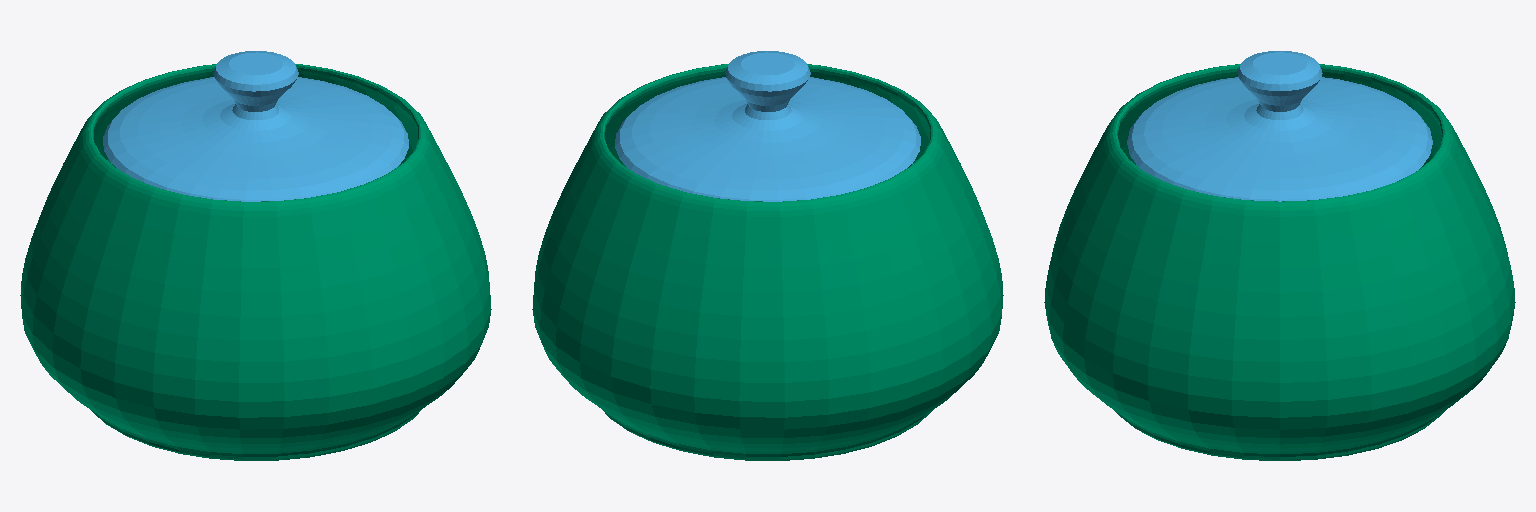
robot.urdf — partnet_13961f08fe5b4c549ef60e9225cbea3a:
<?xml version="1.0" ?>
<robot name="partnet_13961f08fe5b4c549ef60e9225cbea3a">
	<link name="base"/>
	<link name="link_0">
		<visual name="lid-1">
			<origin xyz="0 0 0"/>
			<geometry>
				<mesh filename="textured_objs/original-4.obj" scale="0.2 0.2 0.2"/>
			</geometry>
		</visual>
		<collision>
			<origin xyz="0 0 0"/>
			<geometry>
				<mesh filename="textured_objs/original-4.obj" scale="0.2 0.2 0.2"/>
			</geometry>
		</collision>
	</link>
	<joint name="joint_0" type="prismatic">
		<origin xyz="0 0 0"/>
		<axis xyz="0 1 0"/>
		<child link="link_0"/>
		<parent link="link_1"/>
		<limit lower="0" upper="0.03200000000000003"/>
	</joint>
	<link name="link_1">
		<visual name="handle-2">
			<origin xyz="0 0 0"/>
			<geometry>
				<mesh filename="textured_objs/original-2.obj" scale="0.2 0.2 0.2"/>
			</geometry>
		</visual>
		<visual name="base_body-3">
			<origin xyz="0 0 0"/>
			<geometry>
				<mesh filename="textured_objs/original-3.obj" scale="0.2 0.2 0.2"/>
			</geometry>
		</visual>
		<visual name="base_body-3">
			<origin xyz="0 0 0"/>
			<geometry>
				<mesh filename="textured_objs/original-1.obj" scale="0.2 0.2 0.2"/>
			</geometry>
		</visual>
		<collision>
			<origin xyz="0 0 0"/>
			<geometry>
				<mesh filename="textured_objs/original-2.obj" scale="0.2 0.2 0.2"/>
			</geometry>
		</collision>
		<collision>
			<origin xyz="0 0 0"/>
			<geometry>
				<mesh filename="textured_objs/original-3.obj" scale="0.2 0.2 0.2"/>
			</geometry>
		</collision>
		<collision>
			<origin xyz="0 0 0"/>
			<geometry>
				<mesh filename="textured_objs/original-1.obj" scale="0.2 0.2 0.2"/>
			</geometry>
		</collision>
	</link>
	<joint name="joint_1" type="fixed">
		<origin rpy="1.570796326794897 0 -1.570796326794897" xyz="0 0 0"/>
		<child link="link_1"/>
		<parent link="base"/>
	</joint>
</robot>

--- What the picture shows (computed from the rendered views, not written in the file) ---
3 views of the same robot in one strip: view 1: azimuth 30°, elevation 25°; view 2: azimuth 150°, elevation 25°; view 3: azimuth 270°, elevation 25° (orthographic).
Model partnet_13961f08fe5b4c549ef60e9225cbea3a with 3 links and 2 joints (1 prismatic, 1 fixed), rooted at base, posed every joint at zero.
Visible links, largest first — view 1: link_1, link_0; view 2: link_1, link_0; view 3: link_1, link_0.
Boxes of the visible links, box(x1,y1,x2,y2) form: link_1: box(20, 64, 491, 460); link_0: box(103, 51, 408, 201); link_1: box(532, 64, 1003, 460); link_0: box(615, 51, 920, 201); link_1: box(1044, 64, 1515, 460); link_0: box(1127, 51, 1432, 201).
Bounding box of the posed robot: 0.2284 × 0.2284 × 0.1789 m (x, y, z).
Meshes: 4 distinct files referenced, 2 mesh visuals loaded (2 OBJ); not drawn: 2 (reference not matched to a file when rendering).